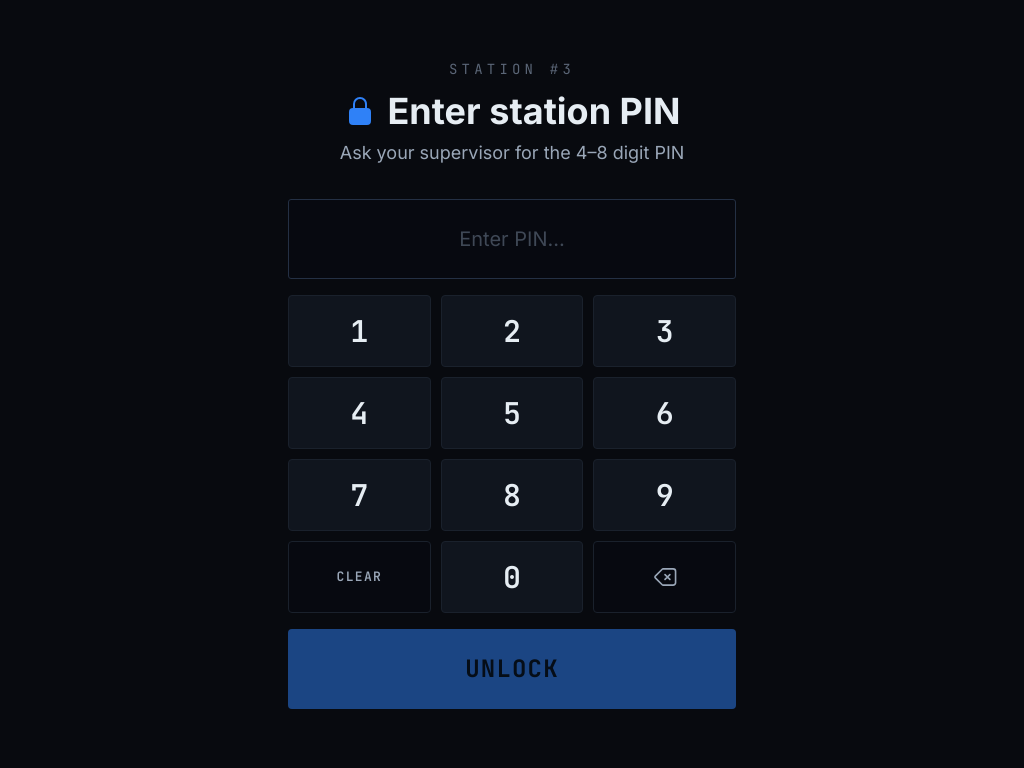
Scenario: CrewStationKiosk › PIN unlock: mints the station token then shows the crew board
Check: the heading "Enter station PIN" is shown, box [344,89,680,133]
Click the button "1".
click(359, 331)  # box [288,295,431,367]
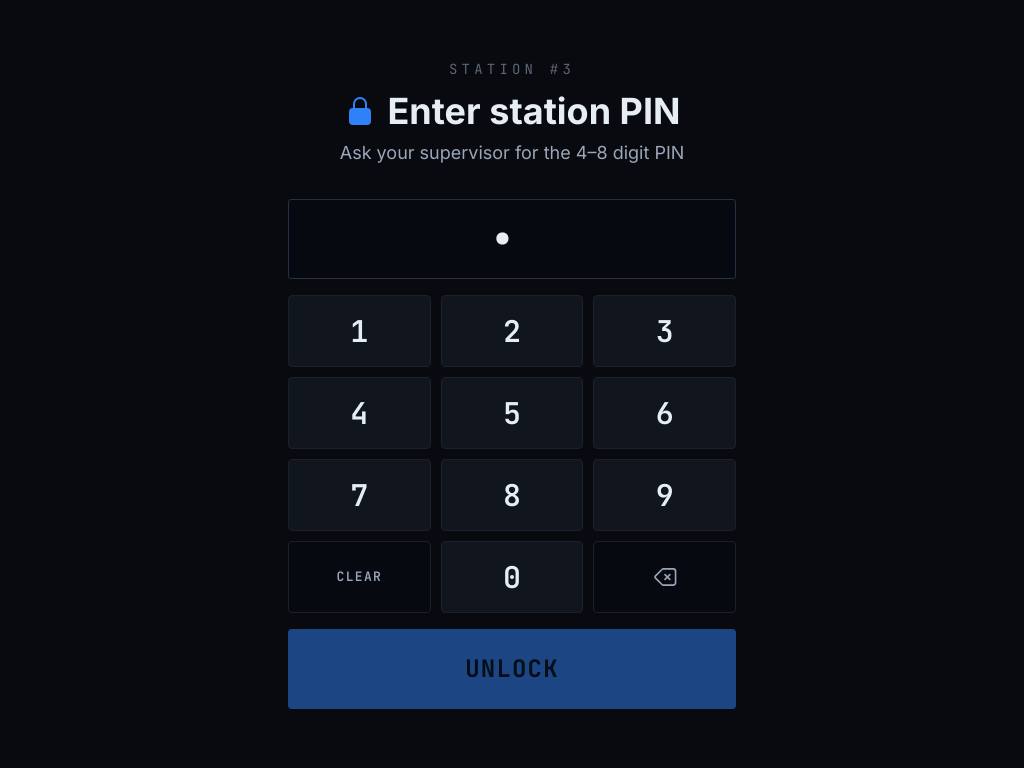
Click the button "2".
click(512, 331)  # box [441,295,583,367]
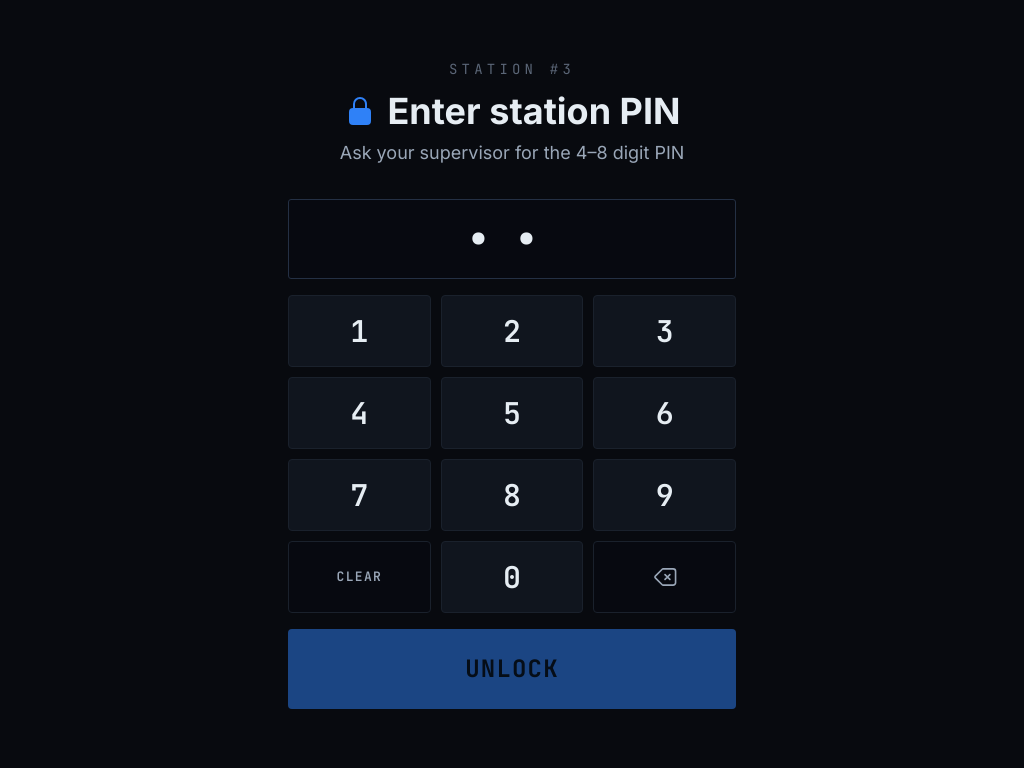
Click the button "3".
click(665, 331)  # box [593,295,736,367]
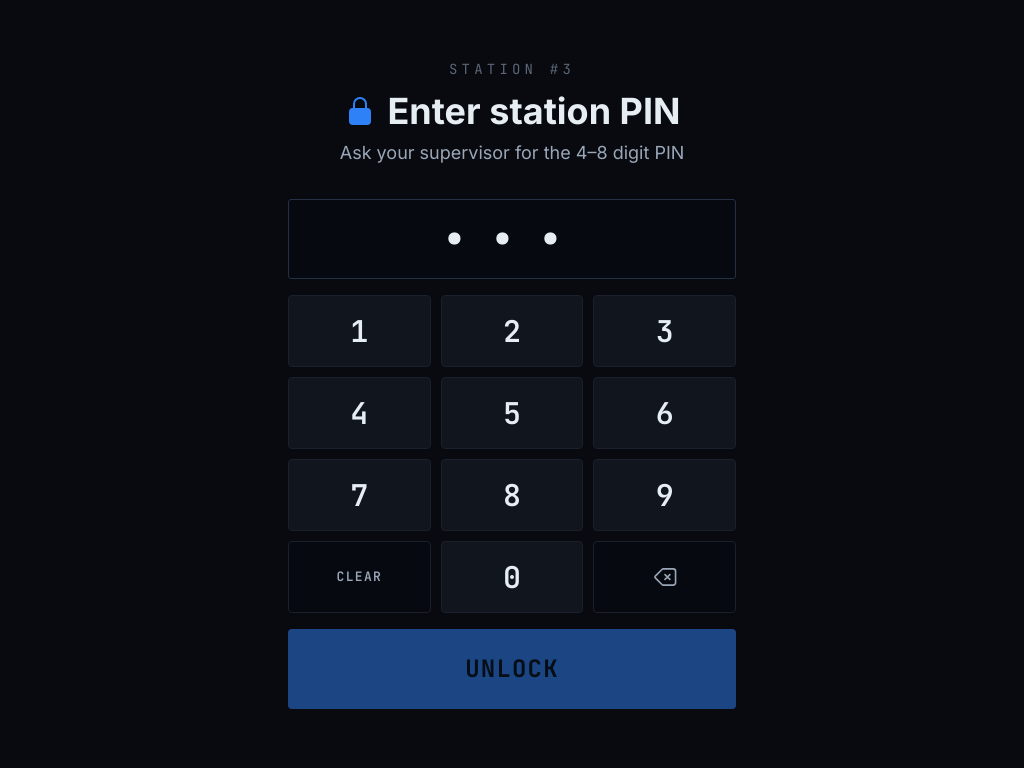
Click the button "4".
click(359, 413)  # box [288,377,431,449]
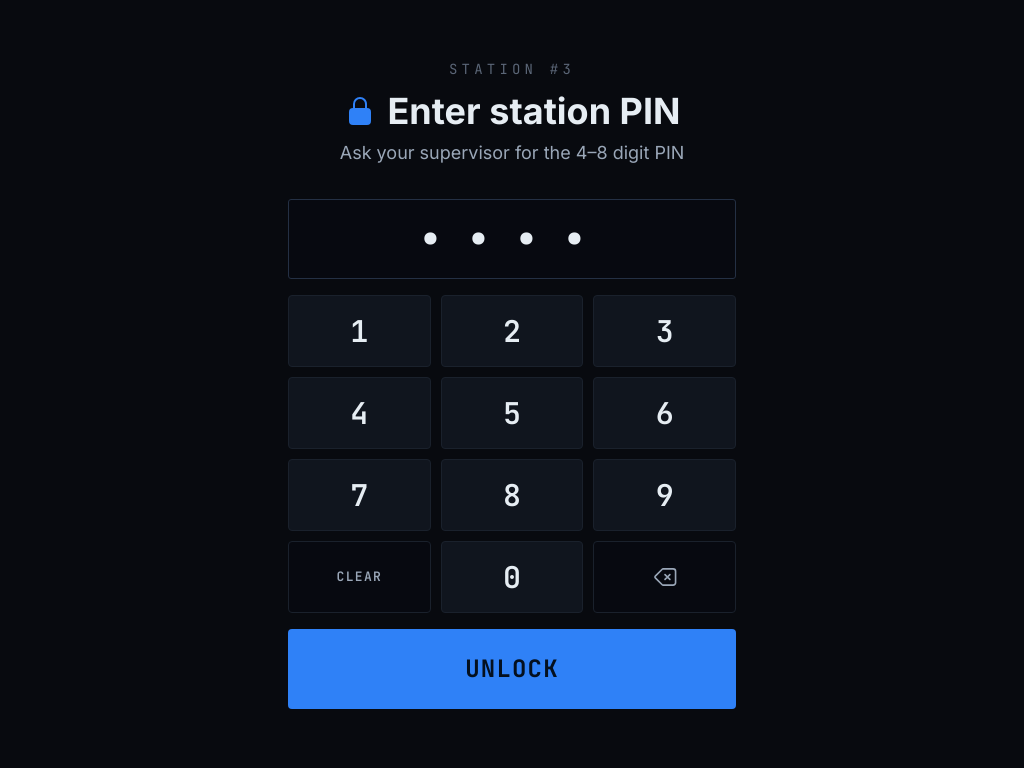
Click the button "Unlock".
click(512, 669)  # box [288,629,736,709]
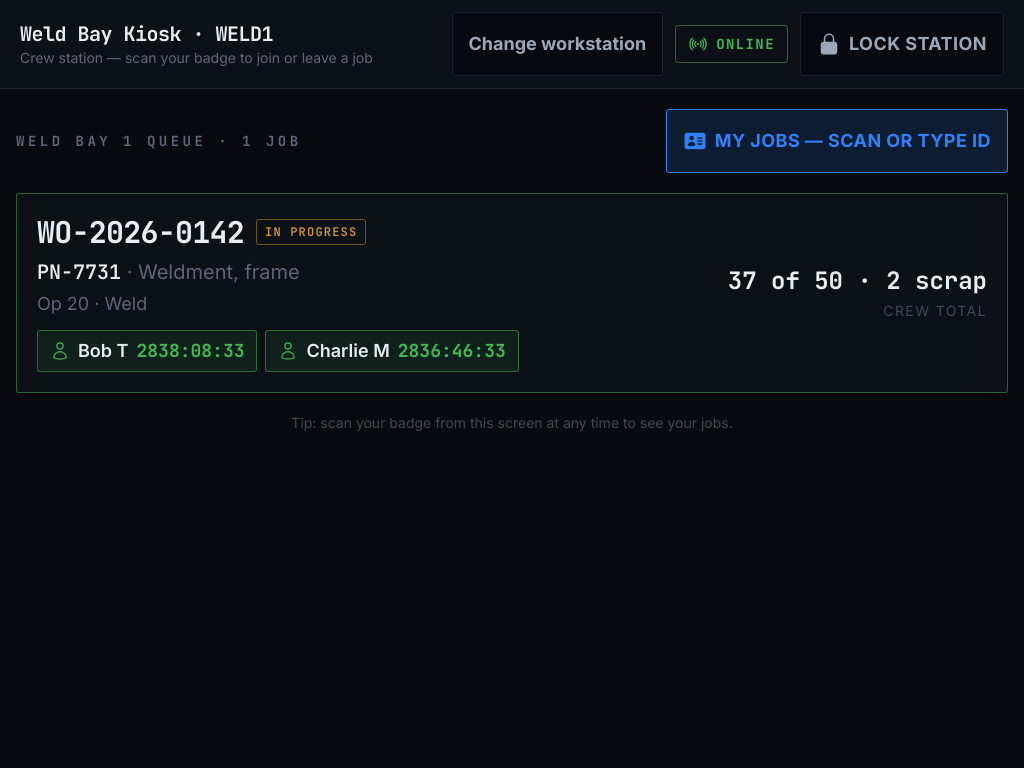
Check: the button "WO-2026-0142" is shown, box [16,193,1008,393]
